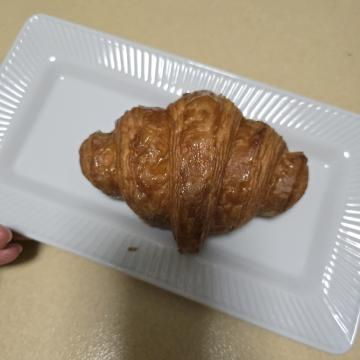croissant: (78, 42, 270, 288)
